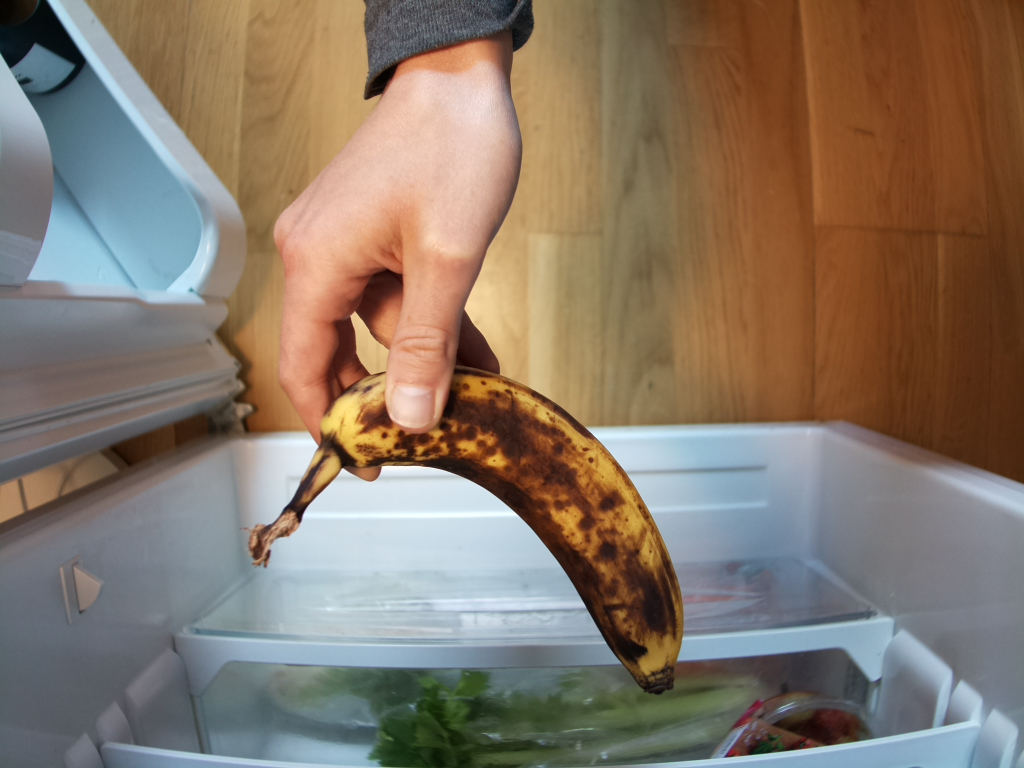banana-overripe: (247, 361, 682, 694)
